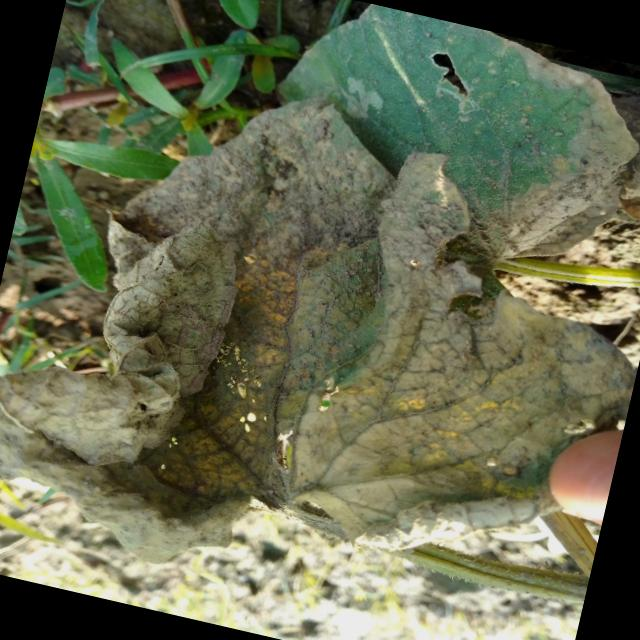cucumber_gummy: (0, 36, 640, 640), (222, 0, 640, 306)
